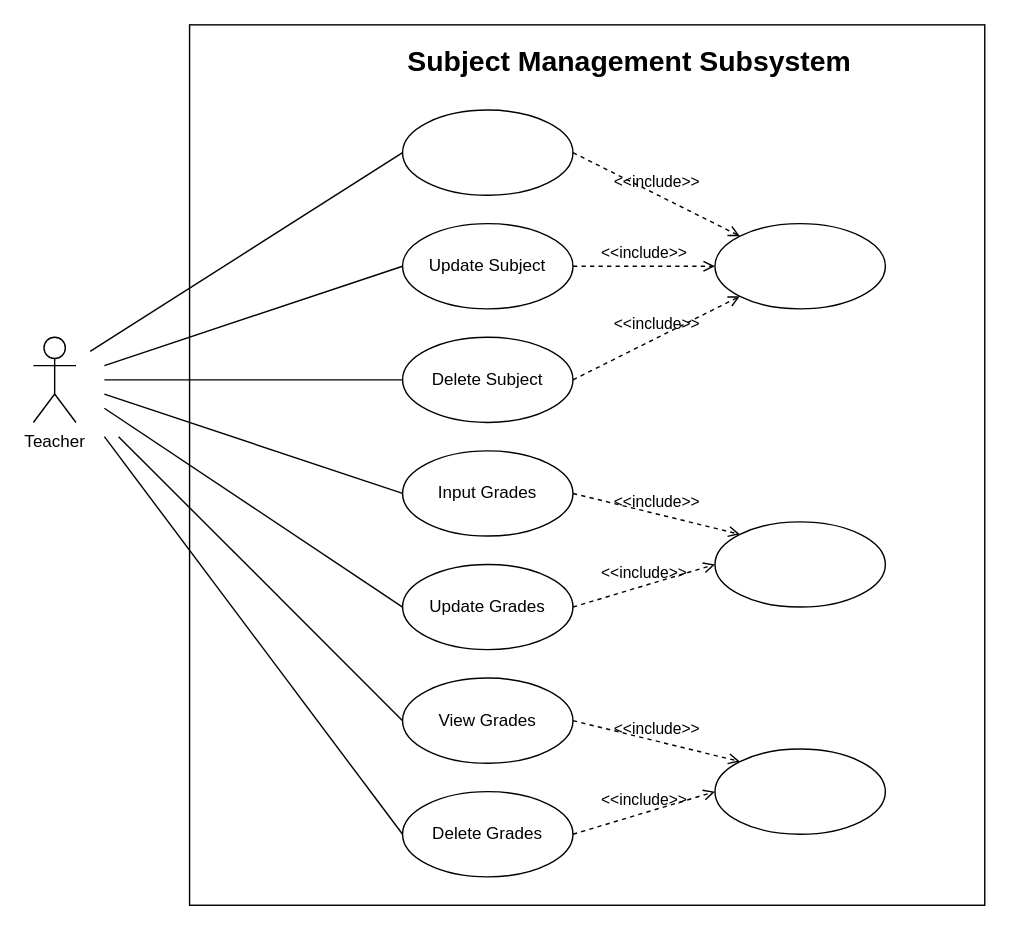
Image size: 1010x930. Some labels were removed from this diagram. The centre of each missing label's shape, as x and y in pixels:
"Check Grades Exist" goes at pixel 799 791.
"Check Subject Exists" goes at pixel 799 265.
"Create Subject" goes at pixel 487 152.
"Validate Grades" goes at pixel 799 563.
